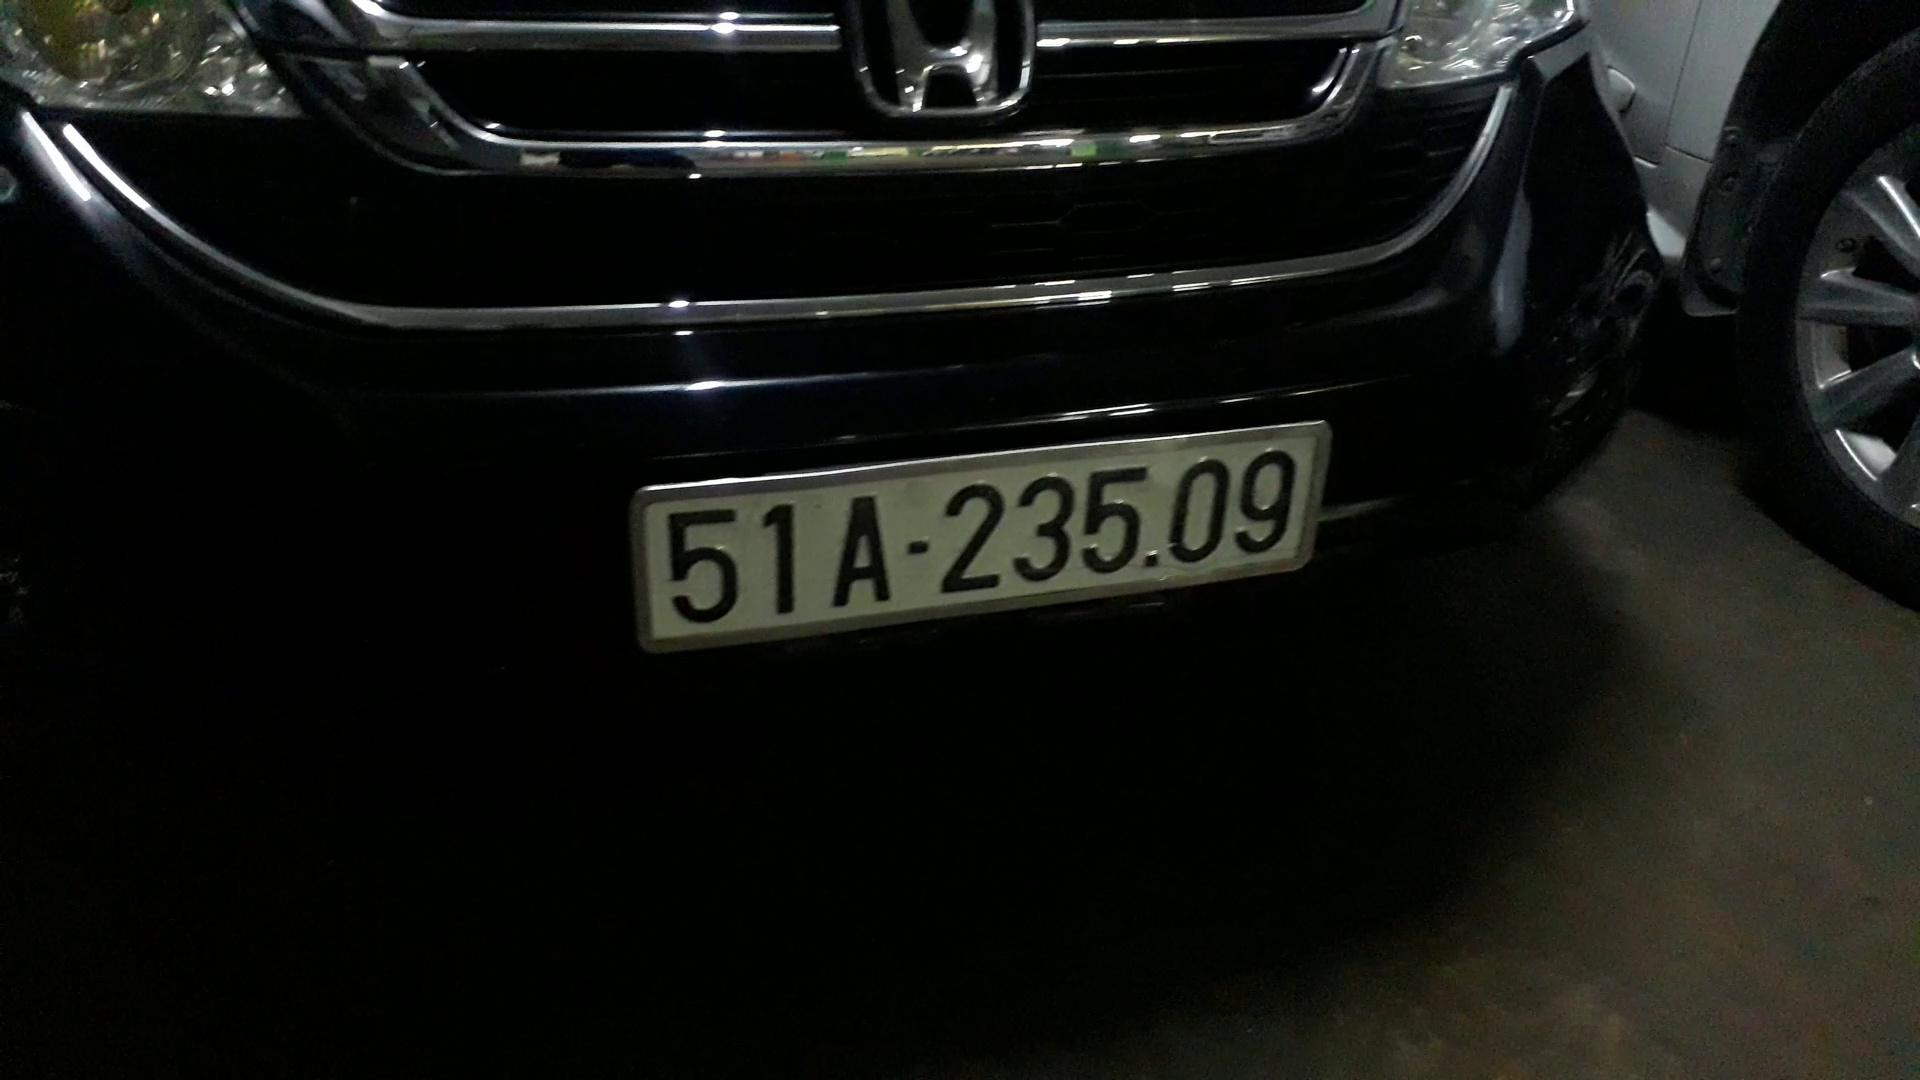numplate: (592, 383, 1367, 659)
